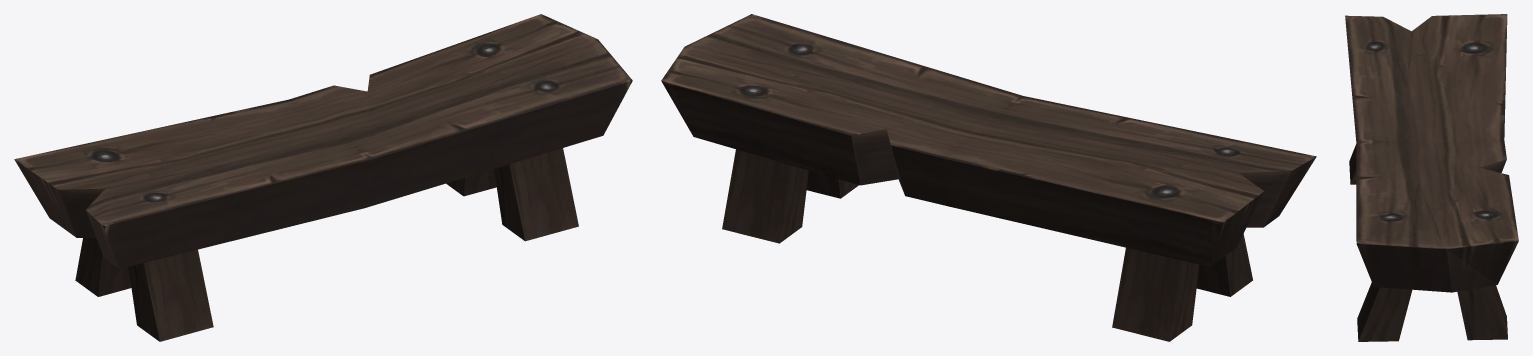
Rendered from changdeng.FBX.
3 views of the same model, side by side, from view 1: azimuth 30°, elevation 25°; view 2: azimuth 150°, elevation 25°; view 3: azimuth 270°, elevation 25° (orthographic). The views are drawn at different scales.
Parts seen in each view (by area): view 1: 对象005; view 2: 对象005; view 3: 对象005.
Boxes of the visible parts, bbox=[...] form: 对象005: bbox=[14, 14, 632, 341]; 对象005: bbox=[661, 14, 1316, 341]; 对象005: bbox=[1345, 14, 1518, 341].
Size of the model in its own units: 1.99 by 0.4969 by 0.5984.
